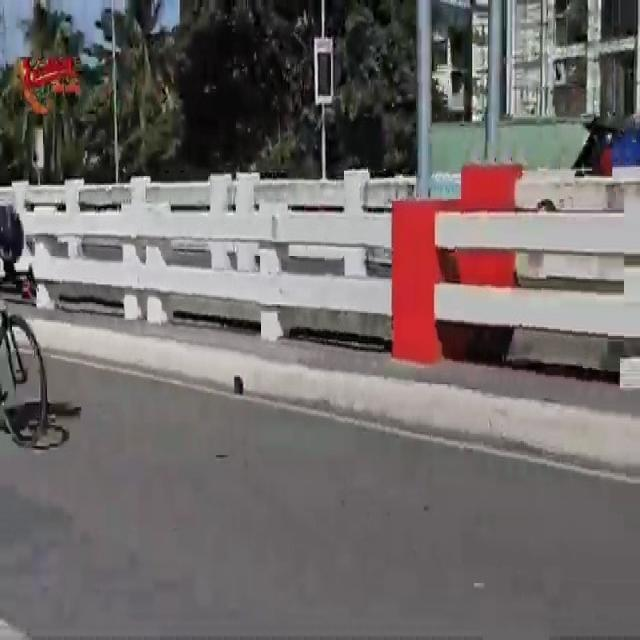bike: (0, 192, 54, 456)
